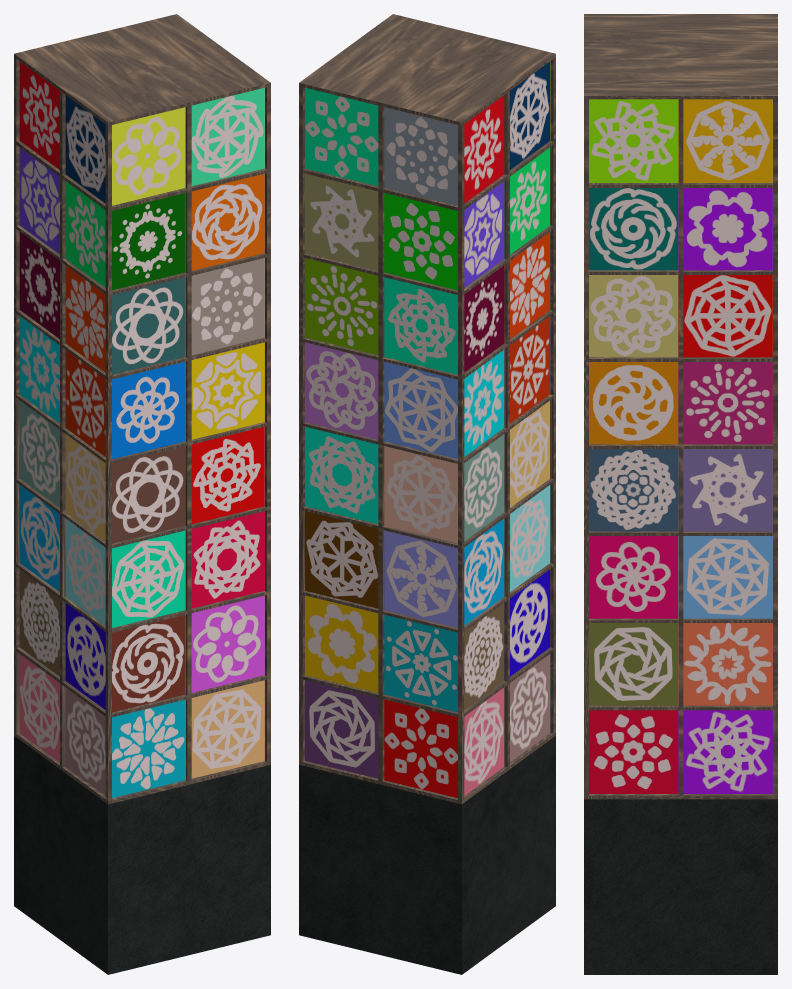
Rendered from PaperLantern-8steps.fbx.
3 views of the same model, side by side, from view 1: azimuth 30°, elevation 25°; view 2: azimuth 150°, elevation 25°; view 3: azimuth 270°, elevation 25° (orthographic). The views are drawn at different scales.
Parts seen in each view (by area): view 1: BoxLight-8steps; view 2: BoxLight-8steps; view 3: BoxLight-8steps.
Boxes of the visible parts, x1,y1,x2,y2 form: BoxLight-8steps: (14, 14, 270, 974); BoxLight-8steps: (299, 14, 555, 974); BoxLight-8steps: (584, 14, 777, 974).
Bounding box in the file's own units: 30 × 30 × 150.
